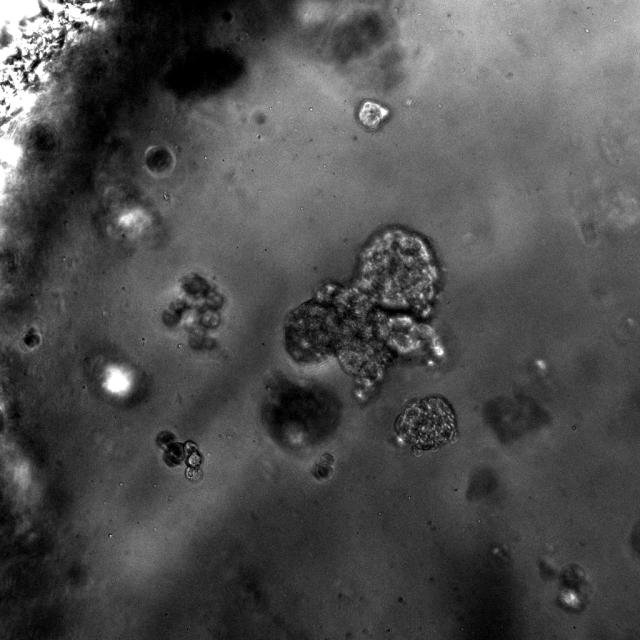organoid: (284, 226, 444, 401), (261, 375, 341, 451), (162, 272, 225, 351), (394, 395, 458, 455), (539, 557, 592, 612), (156, 430, 204, 484), (354, 98, 391, 132), (144, 145, 175, 177), (312, 452, 334, 481), (21, 327, 42, 352)
